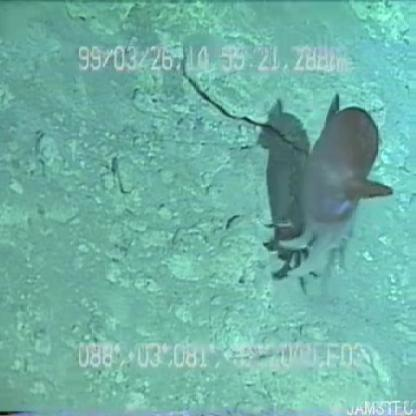Bio: (265, 92, 396, 300)
